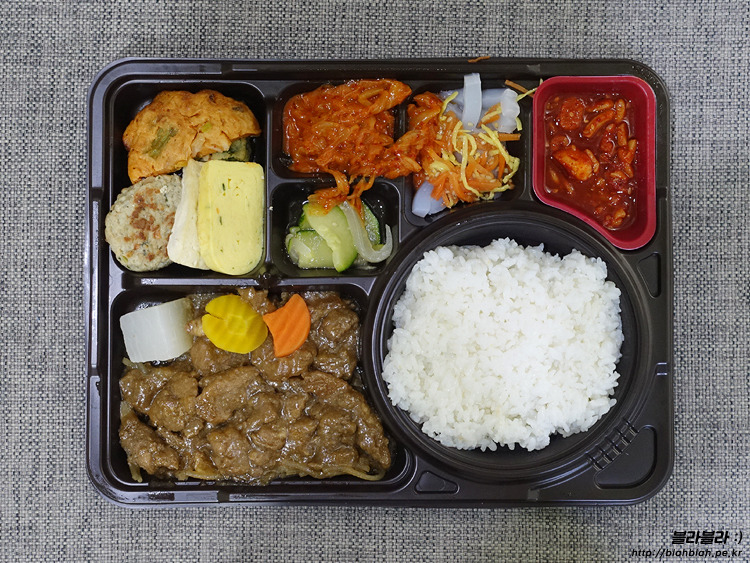ssalbab: (379, 235, 625, 455)
